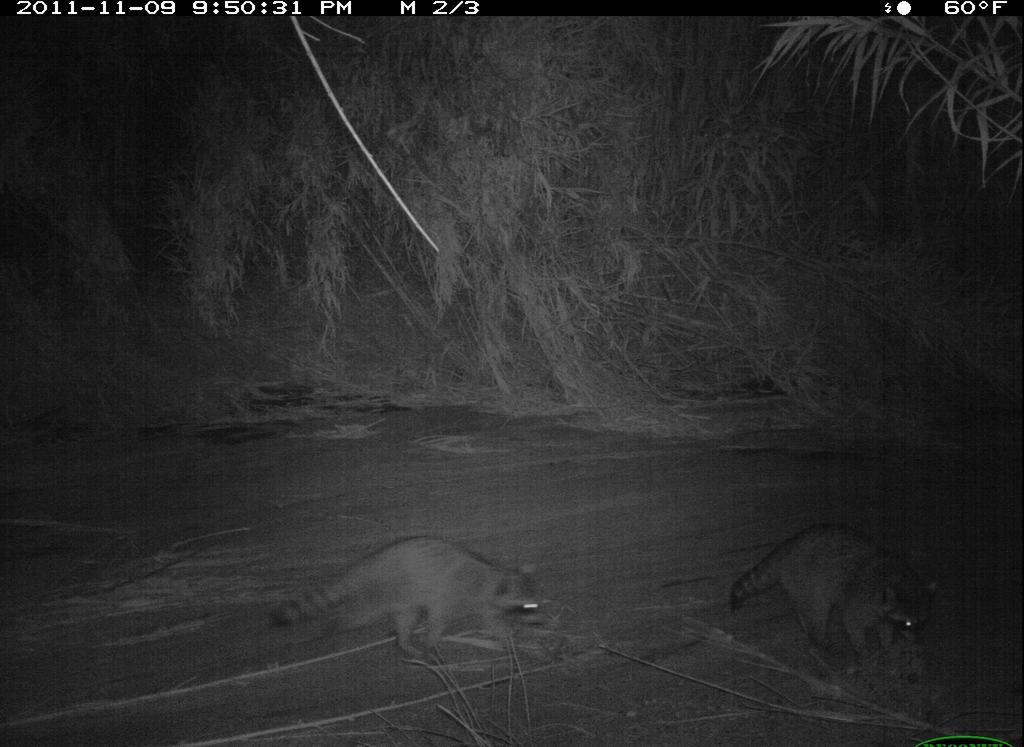raccoon: (263, 525, 553, 681), (719, 514, 957, 685)
